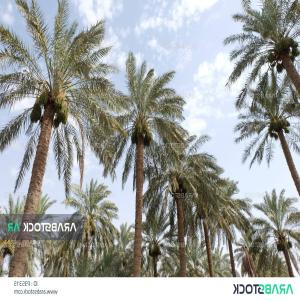palm tree: (0, 0, 123, 276), (98, 49, 189, 276), (221, 0, 299, 196), (141, 128, 225, 277), (61, 177, 119, 276), (252, 187, 300, 277), (140, 207, 172, 277)
